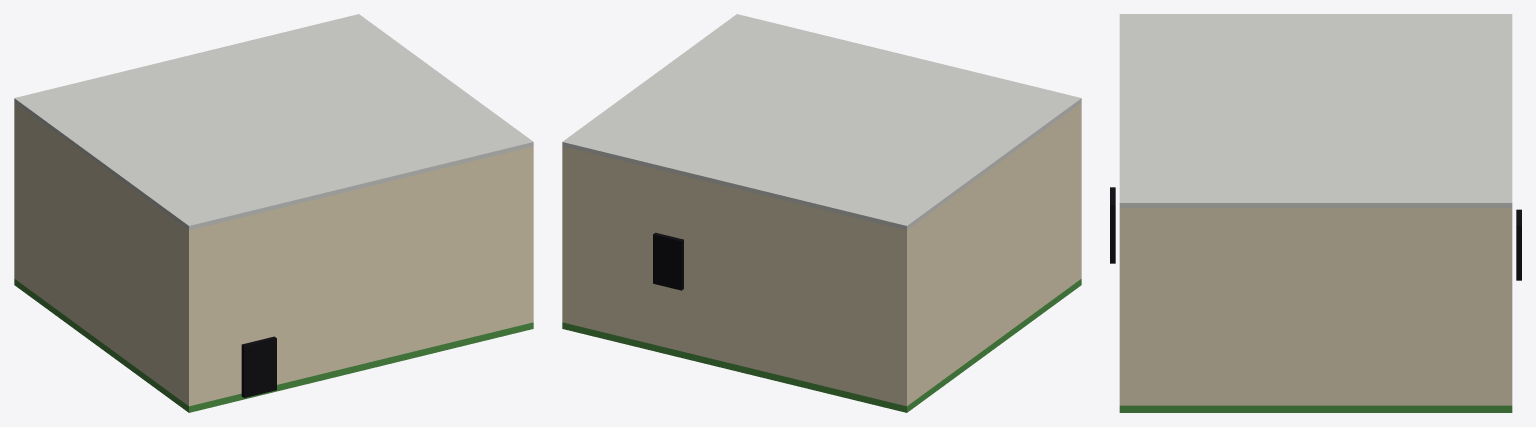
Rendered from rdwe_giant_chair.glb.
3 views of the same model, side by side, from view 1: azimuth 30°, elevation 25°; view 2: azimuth 150°, elevation 25°; view 3: azimuth 270°, elevation 25° (orthographic). The views are drawn at different scales.
Visible parts, largest first — view 1: Room_Ceiling, Room_Wall_S_3, Room_Wall_W_1, Room_Wall_S_1, Room_Floor, Room_Wall_S_2, Beyond_kitchen, Room_Wall_N_1; view 2: Room_Ceiling, Room_Wall_N_1, Room_Wall_W_1, Room_Wall_N_4, Room_Floor, Beyond_high, Room_Wall_N_3, Room_Wall_N_2, Room_Wall_S_1; view 3: Room_Ceiling, Room_Wall_E_1, Room_Floor, Room_Wall_N_4, Room_Wall_S_3, Beyond_kitchen, Beyond_high.
Part boxes in pixels (<box>): Room_Ceiling: <box>14,14,533,230</box>; Room_Wall_S_3: <box>268,146,533,384</box>; Room_Wall_W_1: <box>16,104,186,404</box>; Room_Wall_S_1: <box>186,217,244,406</box>; Room_Floor: <box>14,279,533,412</box>; Room_Wall_S_2: <box>244,211,267,343</box>; Beyond_kitchen: <box>241,336,276,397</box>; Room_Wall_N_1: <box>14,103,16,279</box>; Room_Ceiling: <box>562,14,1081,230</box>; Room_Wall_N_1: <box>681,175,909,406</box>; Room_Wall_W_1: <box>909,104,1079,404</box>; Room_Wall_N_4: <box>562,146,661,346</box>; Room_Floor: <box>562,279,1081,412</box>; Beyond_high: <box>653,232,683,290</box>; Room_Wall_N_3: <box>662,170,680,238</box>; Room_Wall_N_2: <box>662,286,680,350</box>; Room_Wall_S_1: <box>1079,103,1081,279</box>; Room_Ceiling: <box>1119,14,1512,207</box>; Room_Wall_E_1: <box>1125,208,1506,405</box>; Room_Floor: <box>1119,405,1512,412</box>; Room_Wall_N_4: <box>1507,208,1512,405</box>; Room_Wall_S_3: <box>1119,208,1124,405</box>; Beyond_kitchen: <box>1110,187,1115,263</box>; Beyond_high: <box>1516,209,1521,280</box>.
Size of the model in its own units: 16.4 by 8.5 by 15.1.
